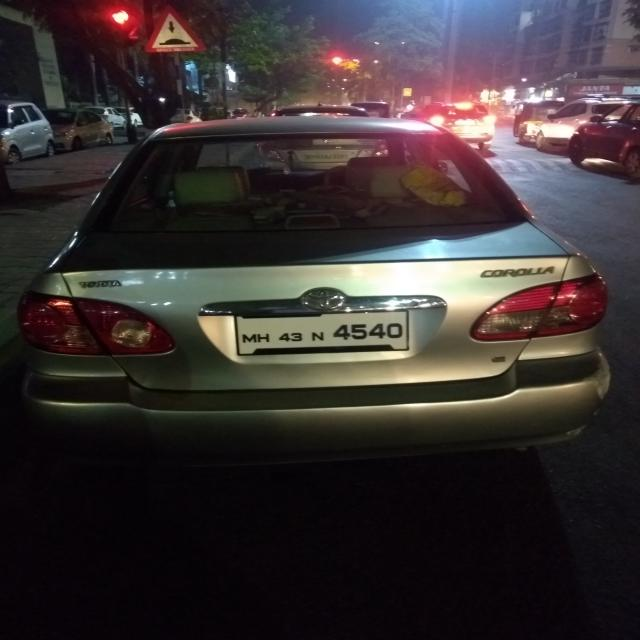Number-Plate: (236, 309, 408, 349)
